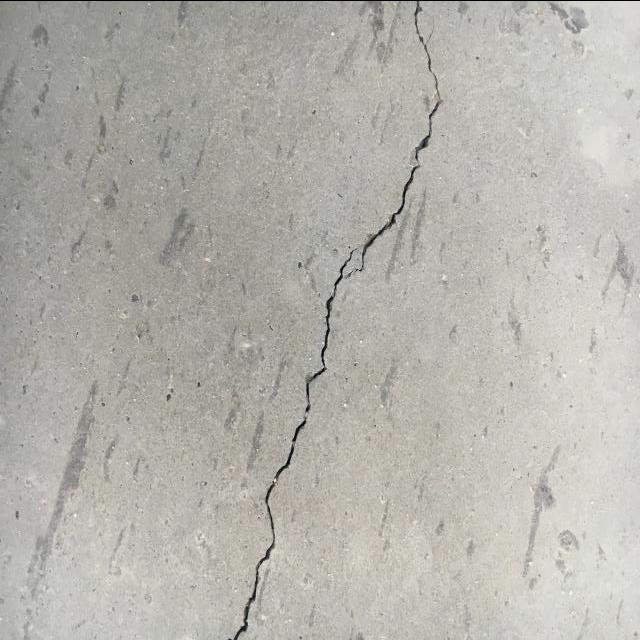SurfaceCrack: (210, 0, 471, 639)
